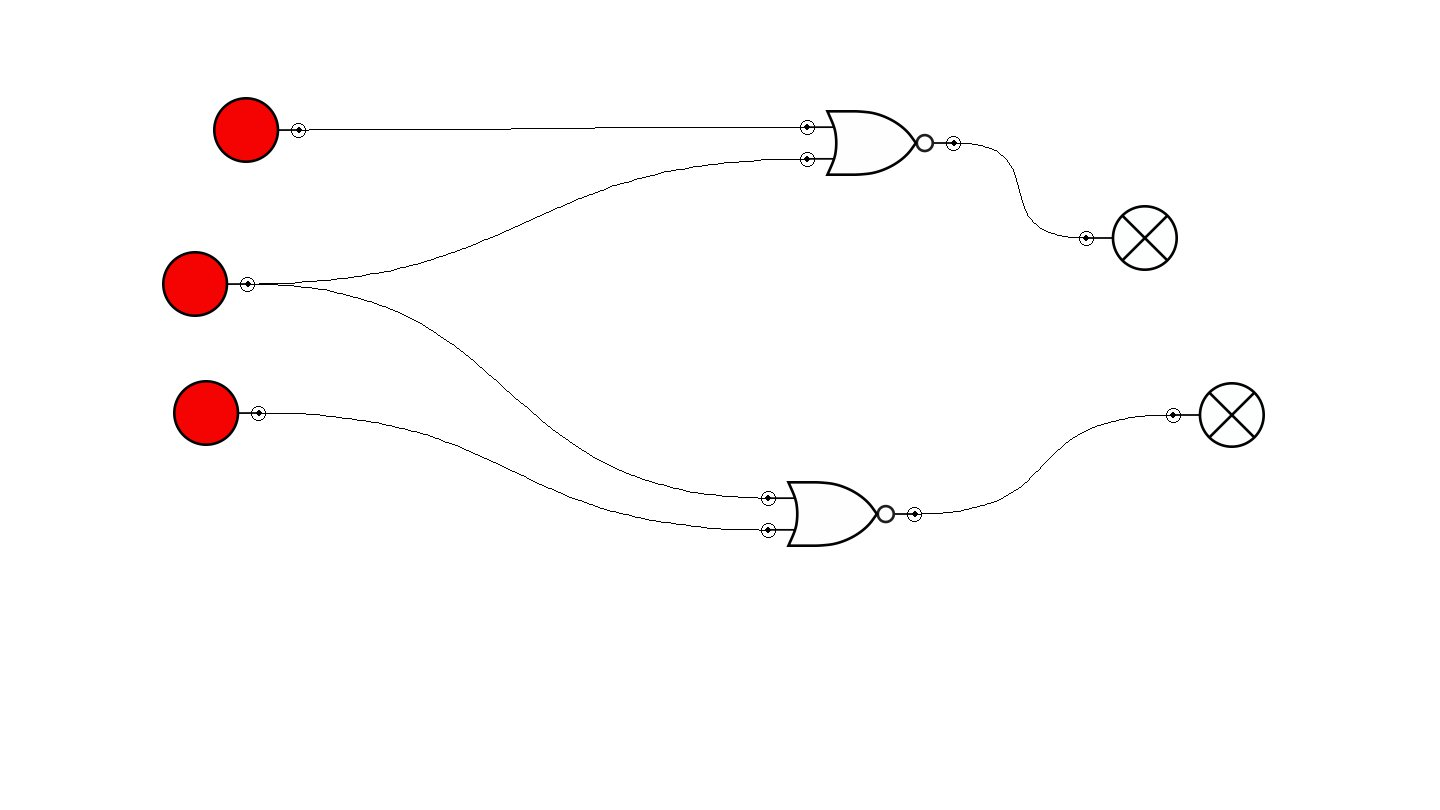bulb: (1079, 205, 1178, 271), (1166, 382, 1265, 448)
nor: (800, 110, 961, 176), (761, 481, 922, 547)
switch_False: (213, 97, 306, 163), (173, 380, 266, 446), (162, 251, 255, 317)
